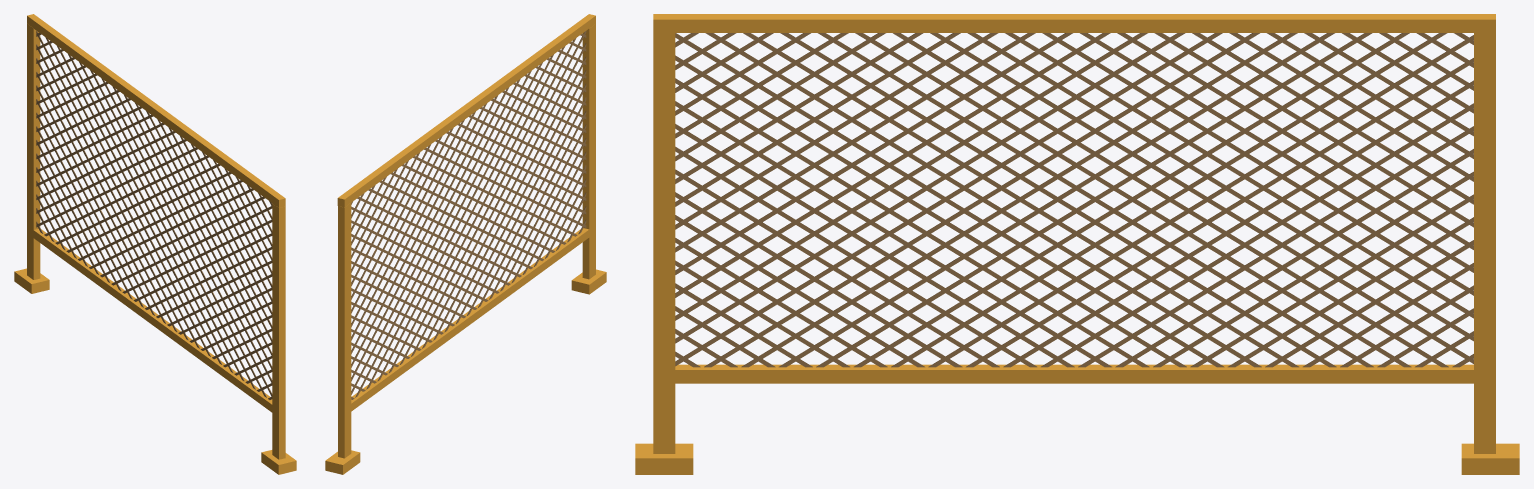
The model's file is HULAN_01.fbx.
The picture shows the model from 3 angles, left to right: view 1: azimuth 30°, elevation 25°; view 2: azimuth 150°, elevation 25°; view 3: azimuth 270°, elevation 25°; orthographic projection. The views are drawn at different scales.
Visible parts, largest first — view 1: WEILAN_01; view 2: WEILAN_01; view 3: WEILAN_01.
Part boxes in pixels (x1=…): WEILAN_01: x1=14, y1=14, x2=296, y2=474; WEILAN_01: x1=325, y1=14, x2=606, y2=474; WEILAN_01: x1=635, y1=14, x2=1519, y2=474.
Size of the model in its own units: 9.79 by 141 by 250.
